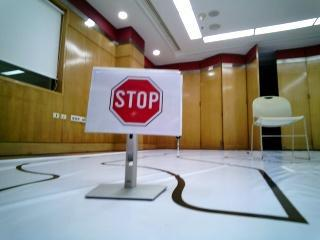stop: (99, 73, 179, 135)
